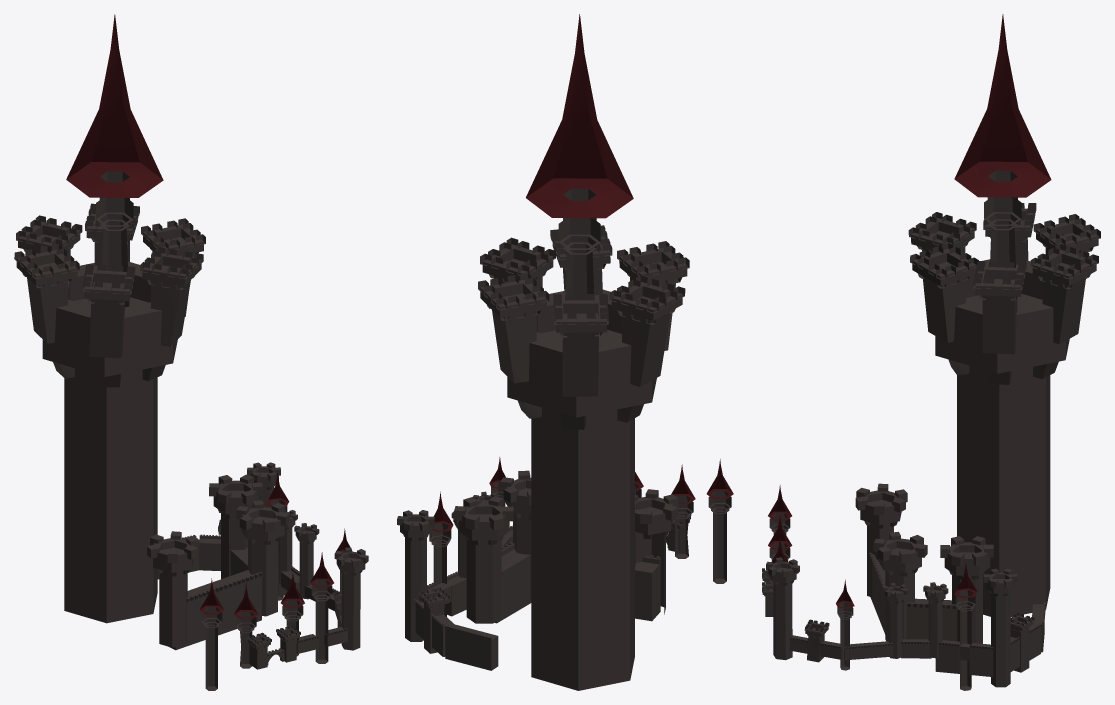
Rendered from castle.fbx.
3 views of the same model, side by side, from view 1: azimuth 30°, elevation 25°; view 2: azimuth 150°, elevation 25°; view 3: azimuth 270°, elevation 25° (orthographic). The views are drawn at different scales.
Parts seen in each view (by area): view 1: Cube.003, Cube.003_5.001, Cube.003_5.002; view 2: Cube.003, Cube.003_5.001, Cube.003_5.002; view 3: Cube.003, Cube.003_5.001, Cube.003_5.002.
Boxes of the visible parts, x1,y1,x2,y2 form: Cube.003: (14,14,205,623); Cube.003_5.001: (157,462,368,690); Cube.003_5.002: (147,474,289,650); Cube.003: (478,14,689,690); Cube.003_5.001: (397,457,733,670); Cube.003_5.002: (454,470,678,623); Cube.003: (908,14,1100,616); Cube.003_5.001: (762,485,1046,690); Cube.003_5.002: (855,483,993,643).
Size of the model in its own units: 4886 by 11328 by 5758.
